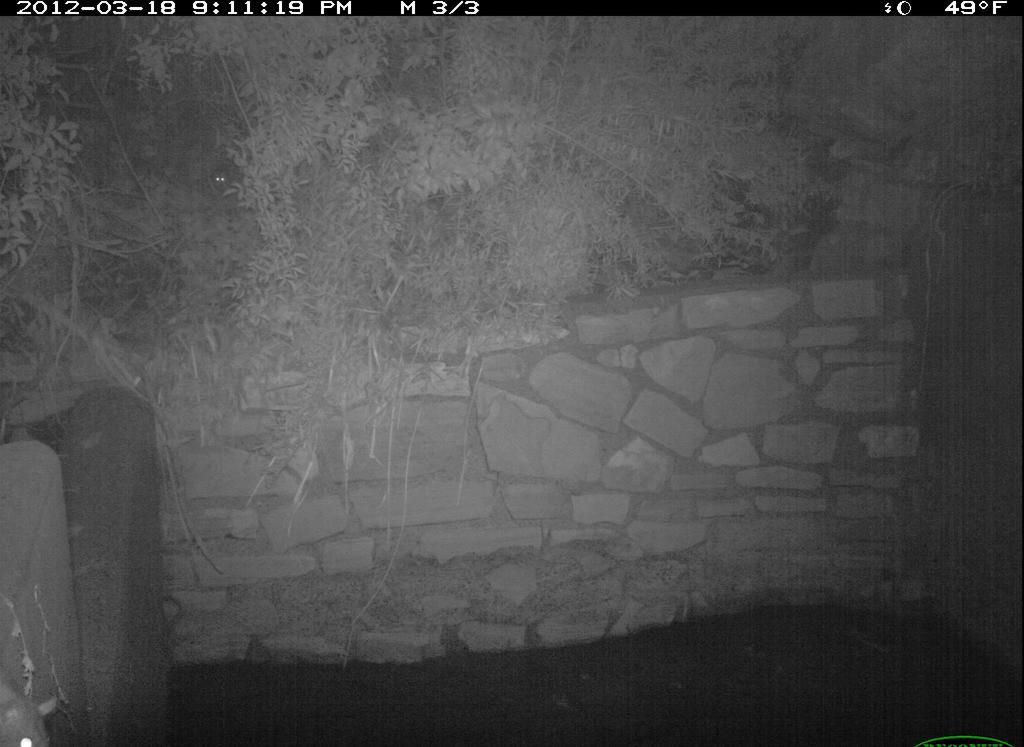rodent: (1, 674, 71, 747), (209, 165, 233, 196)
